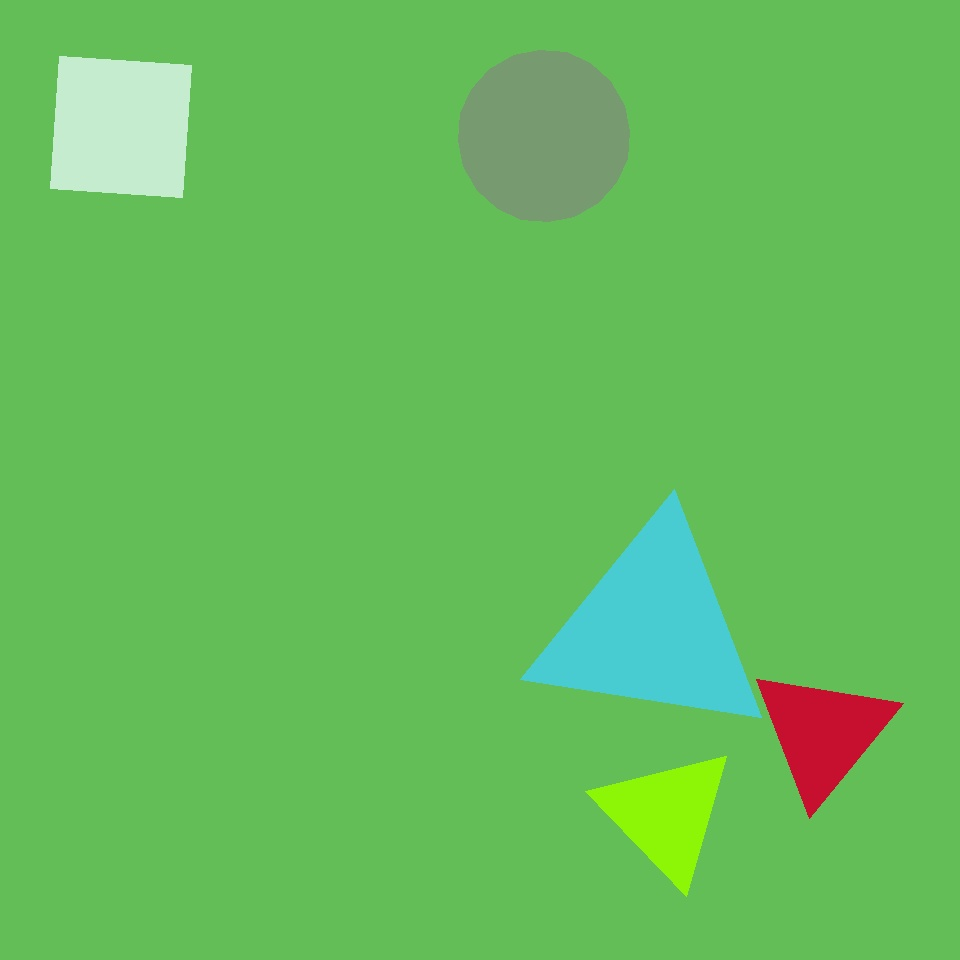circle: (473, 201, 756, 452), (532, 515, 772, 743), (750, 664, 896, 804), (595, 745, 736, 885), (99, 41, 235, 162)
square: (50, 56, 192, 198)
triangle: (458, 50, 630, 222)
